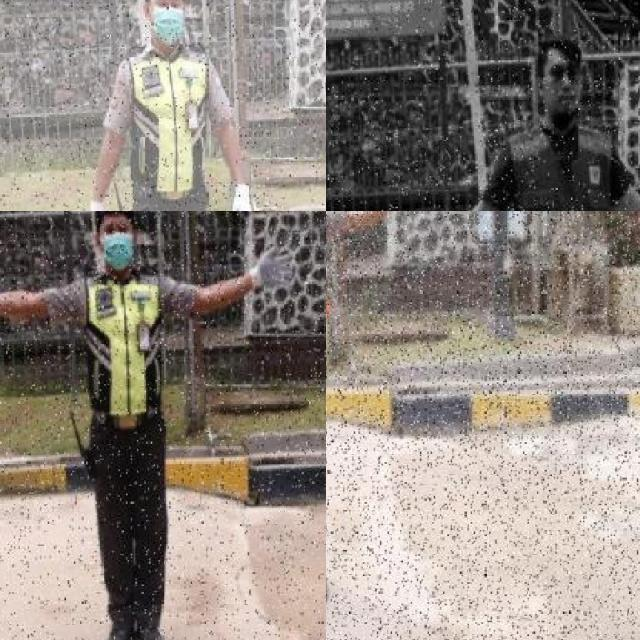apron: (248, 242, 296, 292), (229, 181, 255, 211), (87, 197, 110, 211)
